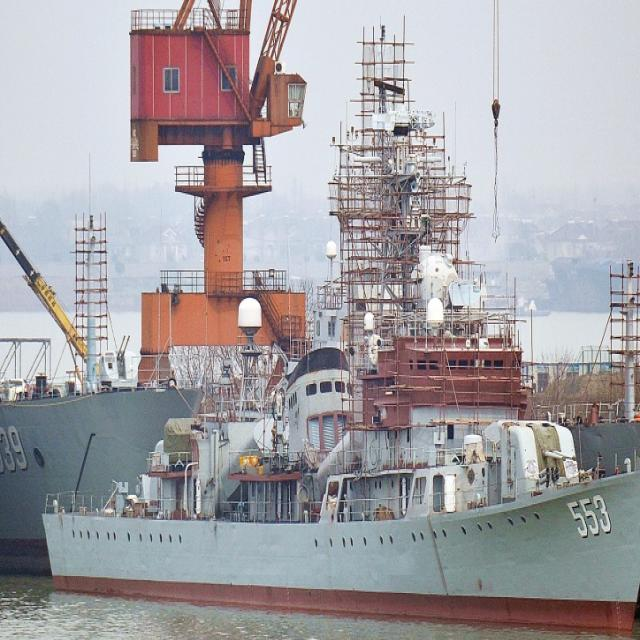Fragata: (38, 226, 640, 638)
